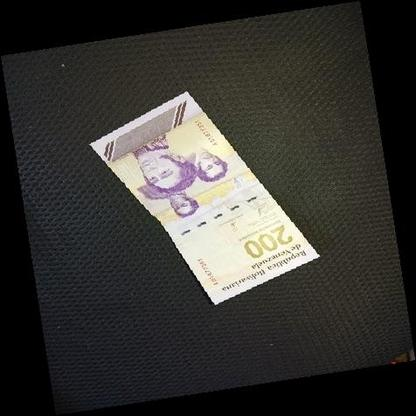two_hundred-front-vef: (89, 90, 320, 306)
